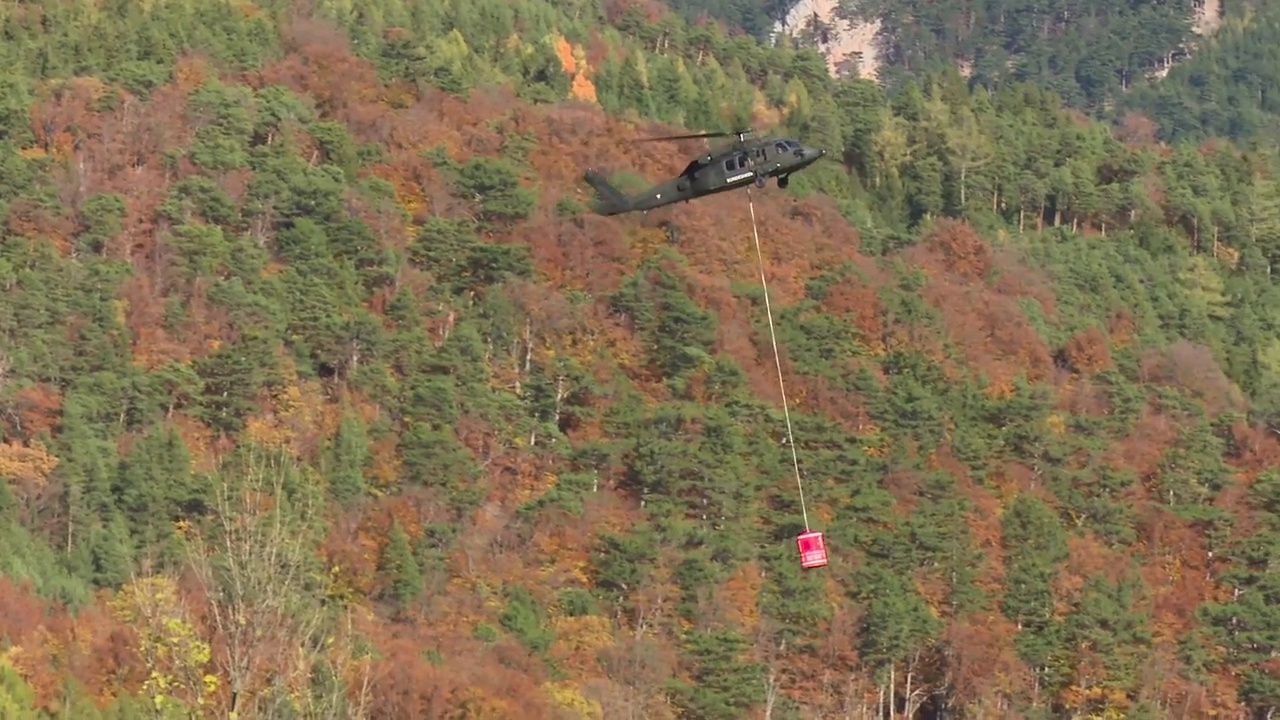heli: (582, 131, 827, 217)
